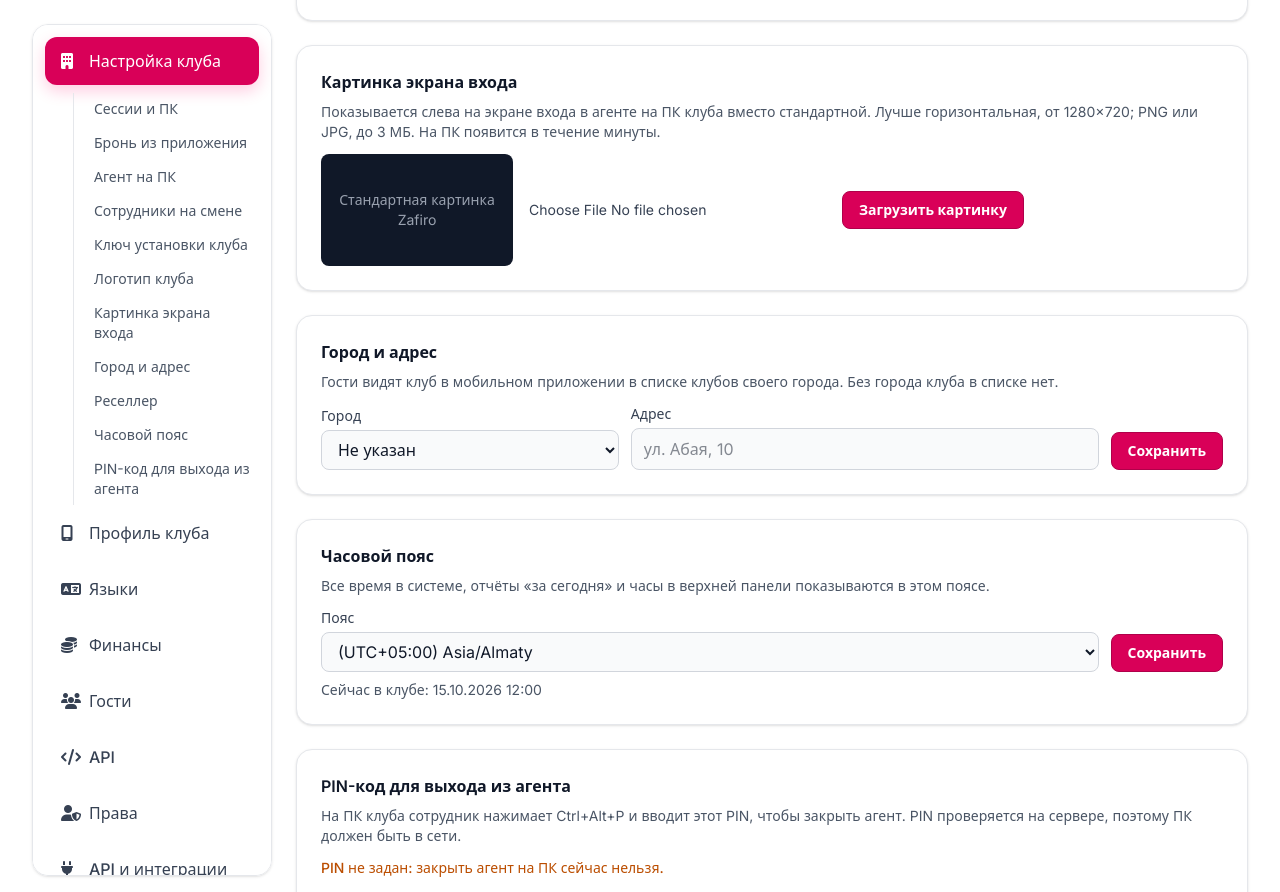
Настройка клуба: город и адрес › GS-566: карточка «Город и адрес» — список городов, «Не указан», сохранение
(page scrolled)
Select "Актобе" in the dropdown labelled "Город" at (470, 450), box [321,430,619,470]
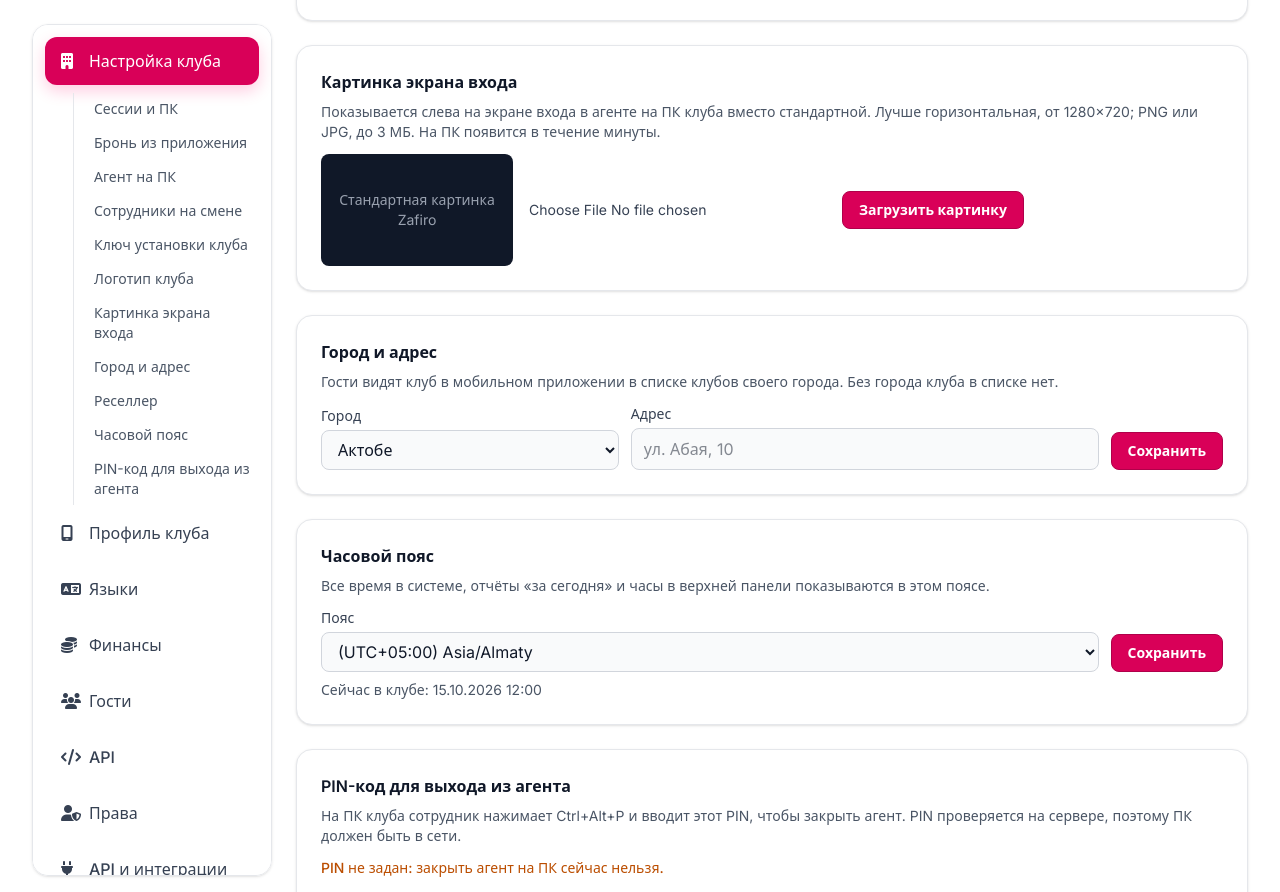
Type "пр. Абилкайыр хана, 1" into the field with placeholder "ул. Абая, 10" at (865, 449), box [631,428,1099,470]
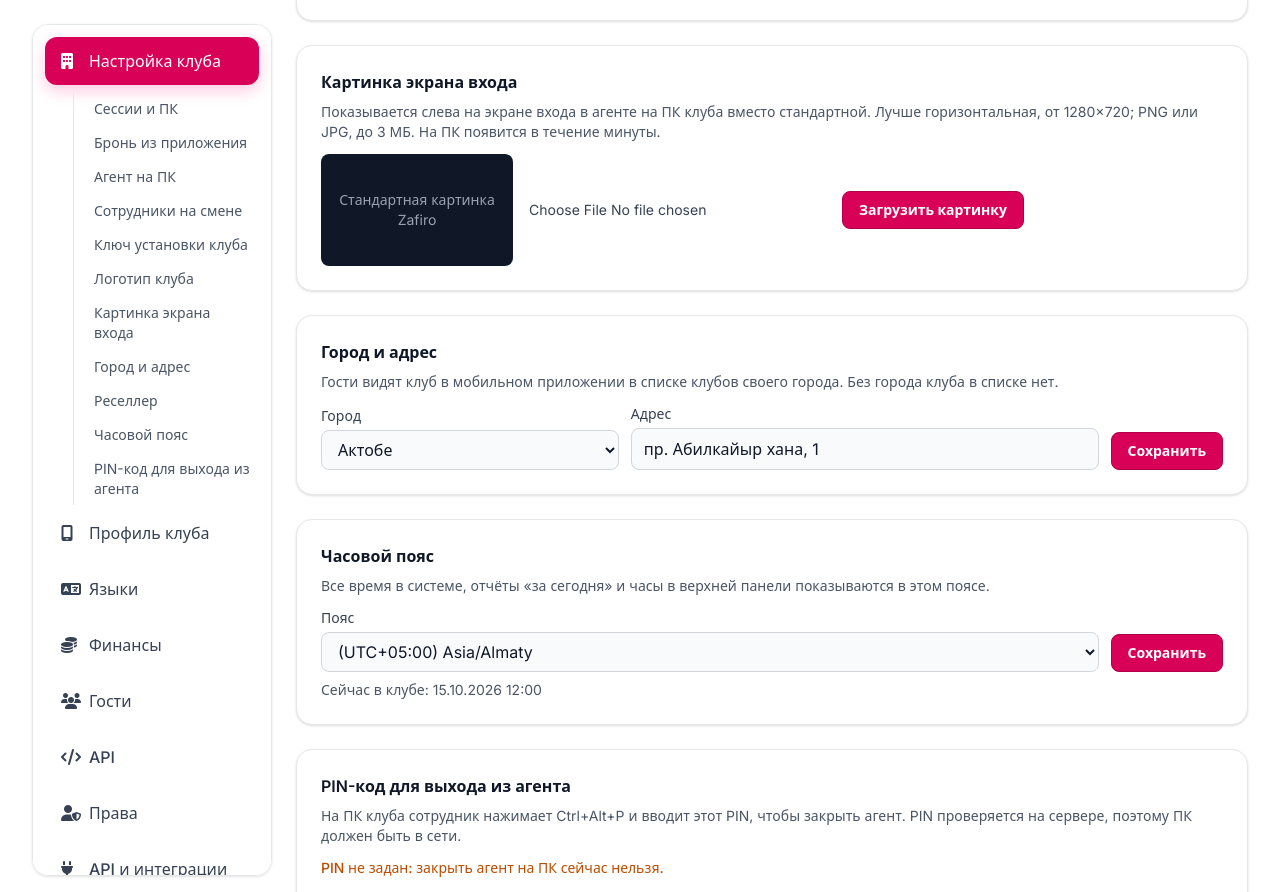
Click the 1st button "Сохранить" at (1167, 451), box [1111,432,1223,470]
(page scrolled)
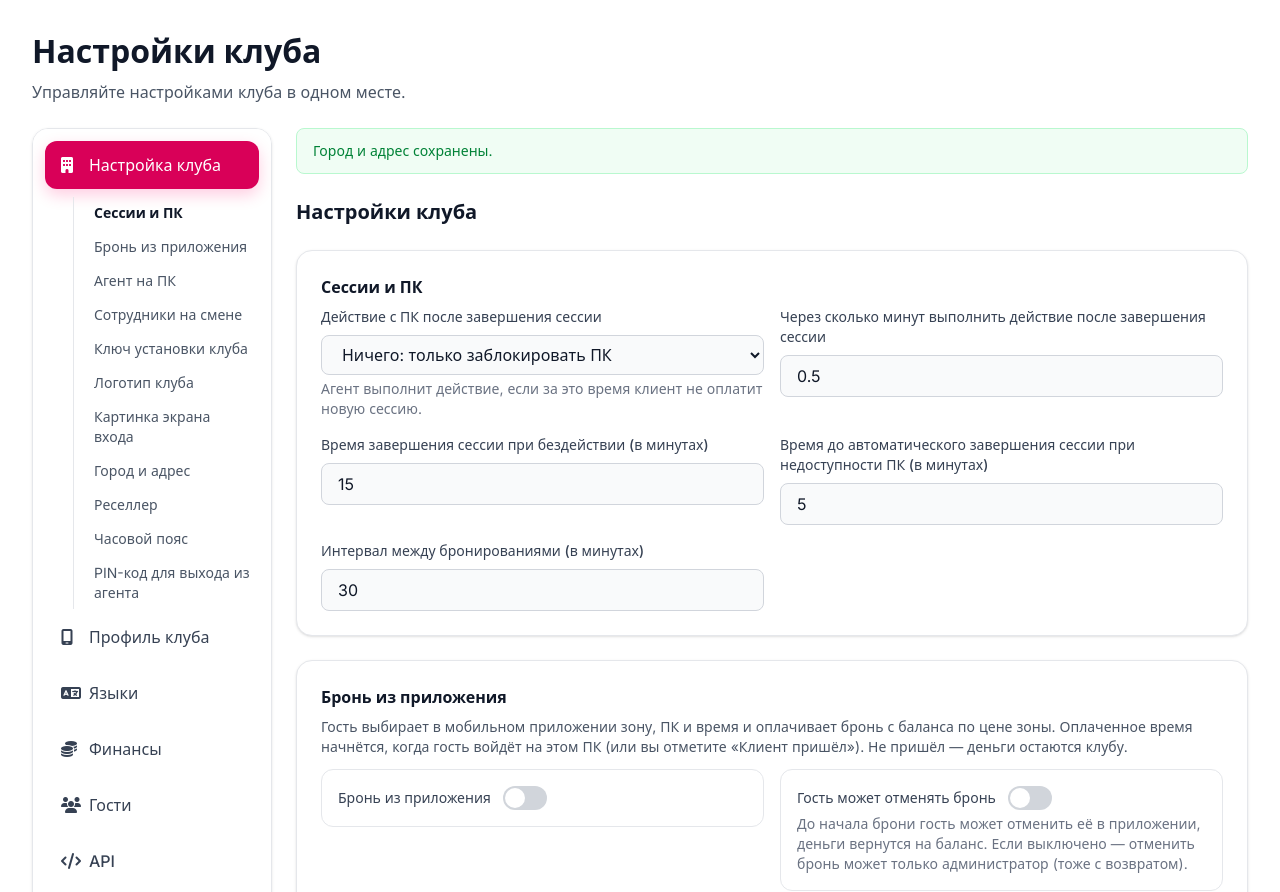
expect the text "Город и адрес сохранены." is shown: met, box [296,128,1248,174]
